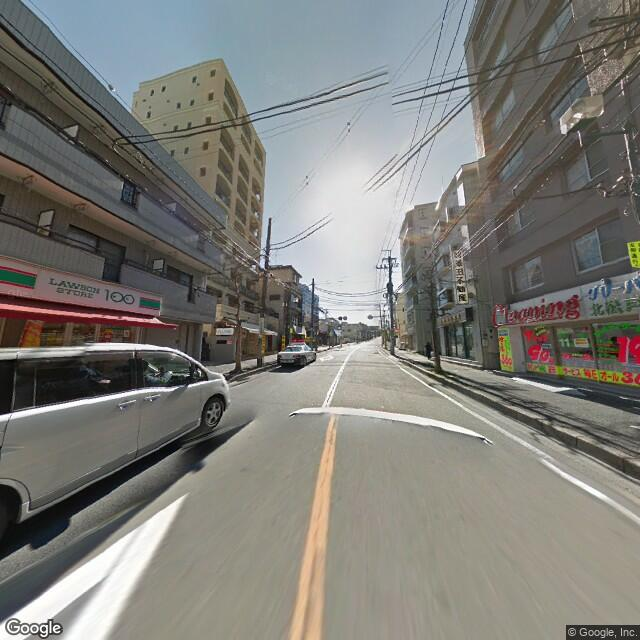lawson: (1, 252, 163, 325)
